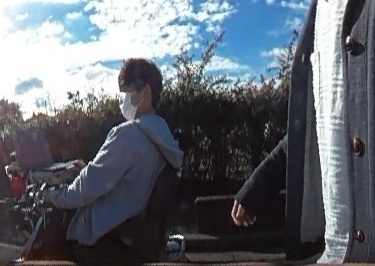person: (51, 55, 170, 254)
